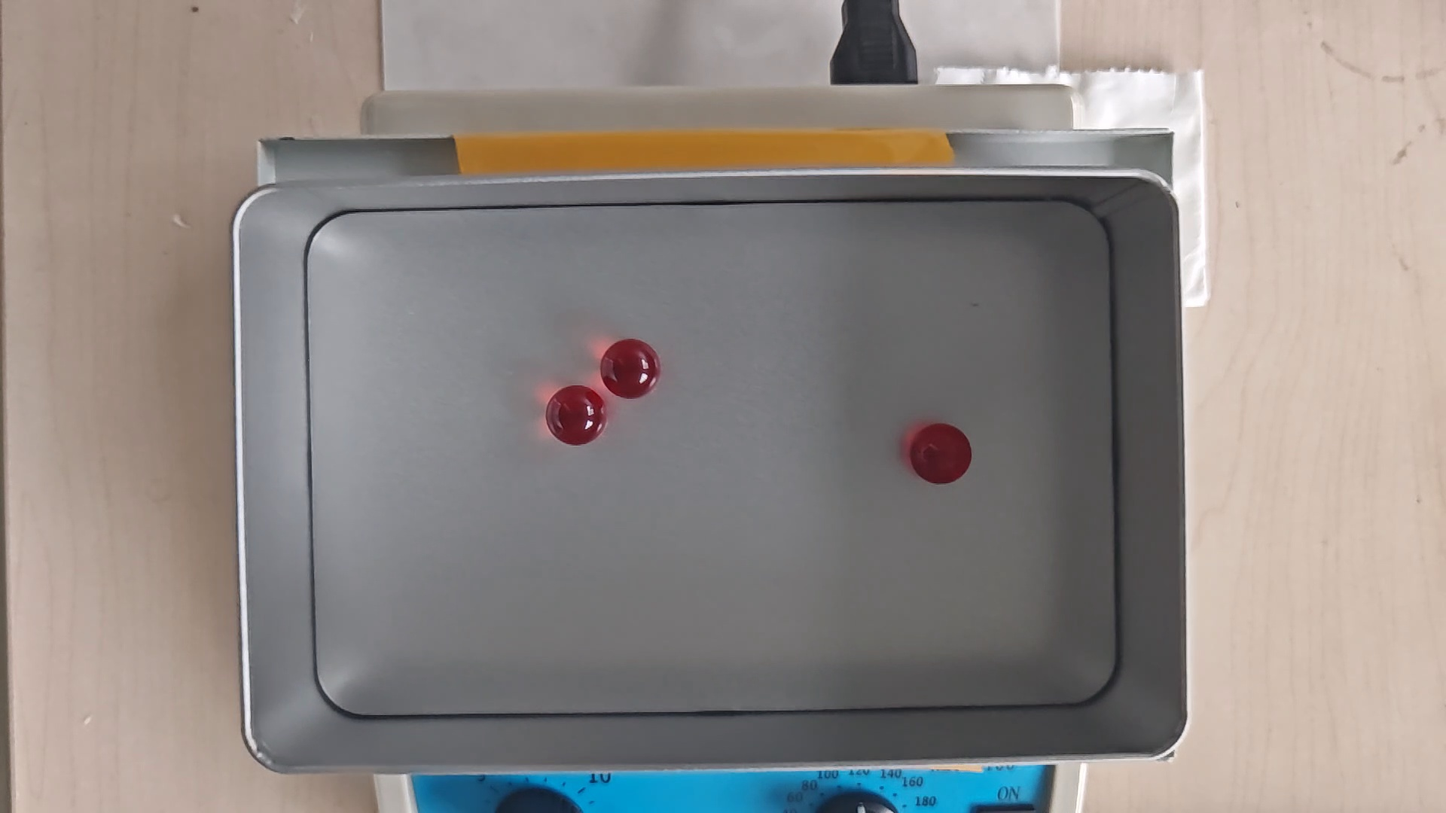ball: (910, 422, 971, 485), (546, 385, 609, 445), (602, 341, 660, 400)
container: (303, 203, 1121, 711)
